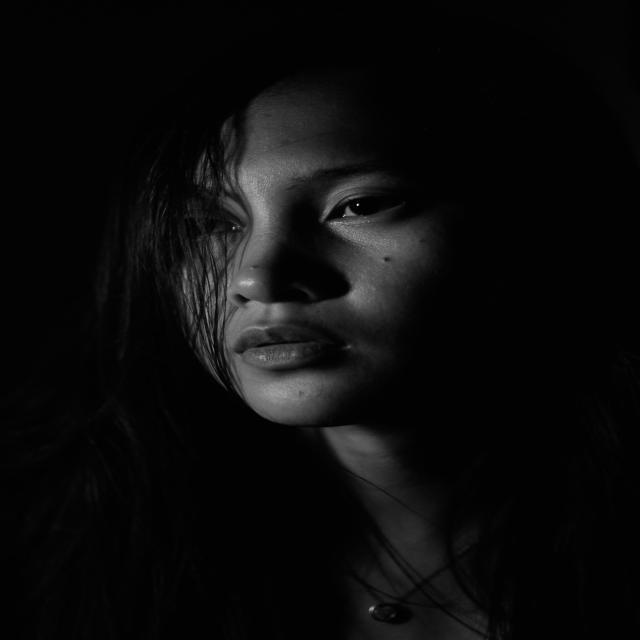adult: (0, 49, 627, 640)
